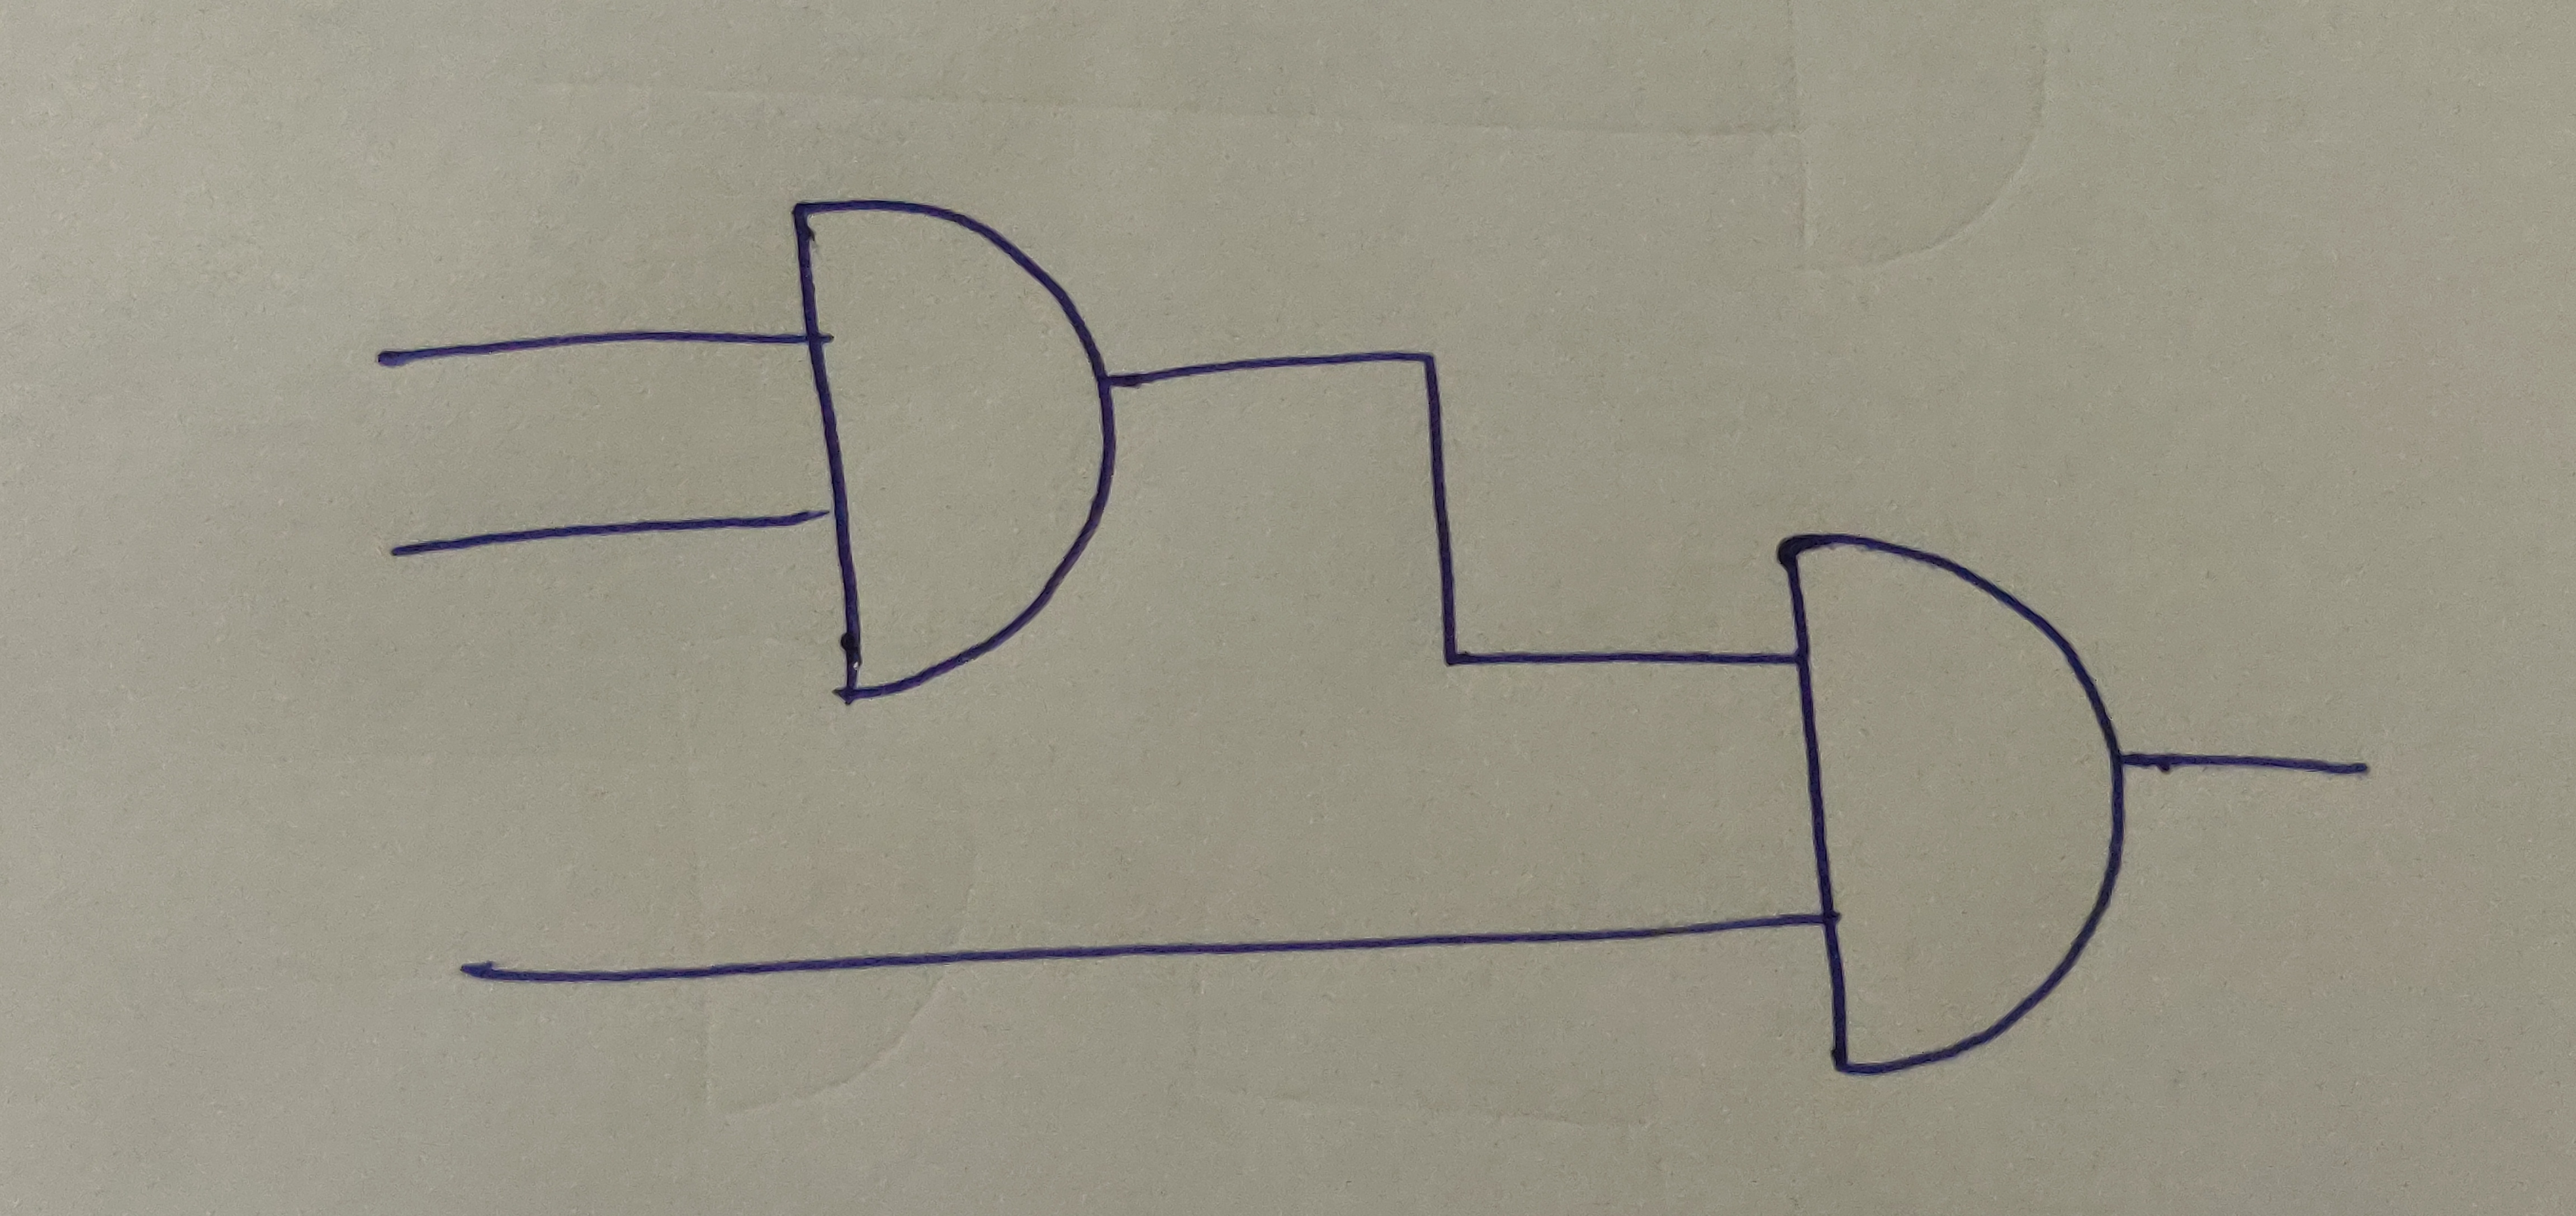and: (1778, 529, 2131, 1070), (785, 197, 1115, 700)
